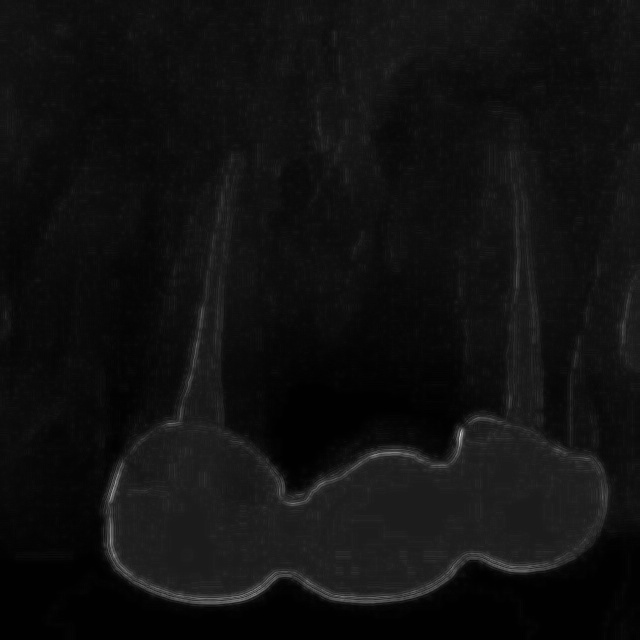Class 0- No endodontic treatment: (110, 112, 302, 617), (417, 70, 612, 542)
